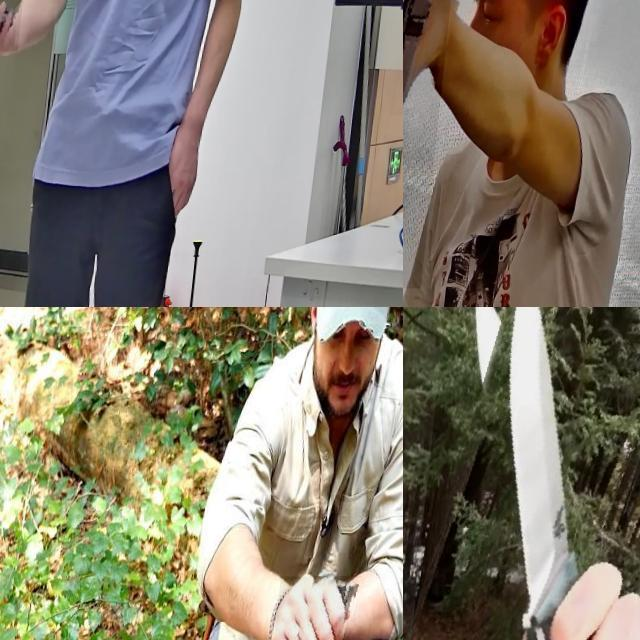-: (409, 307, 640, 640), (268, 576, 356, 640)
gun-knife-thesis - v11 Yolov5 augmented: (403, 0, 471, 289), (0, 0, 45, 52)
